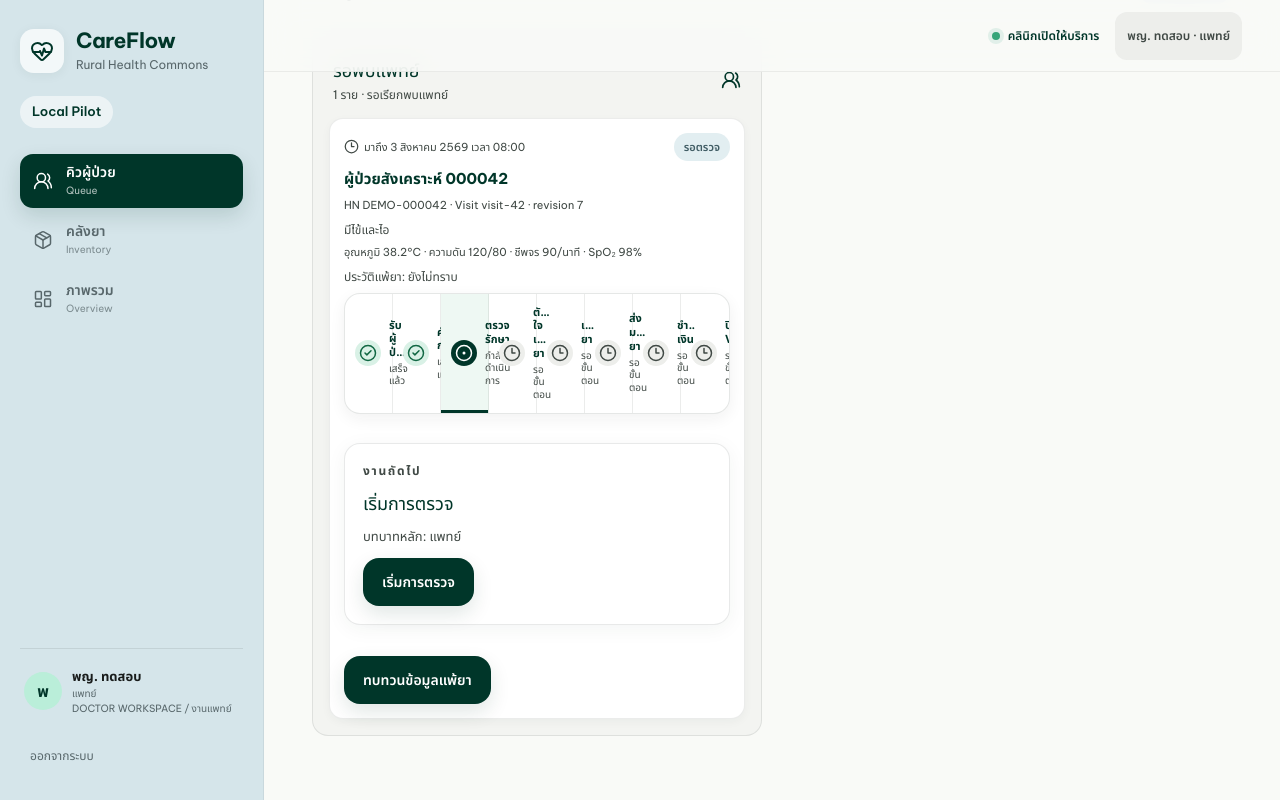
Test case: connected shared queue workflow › surfaces a committed start-command 503 instead of swallowing the error
(page scrolled)
Click the button "เริ่มการตรวจ": (418, 582) [363,558,474,606]
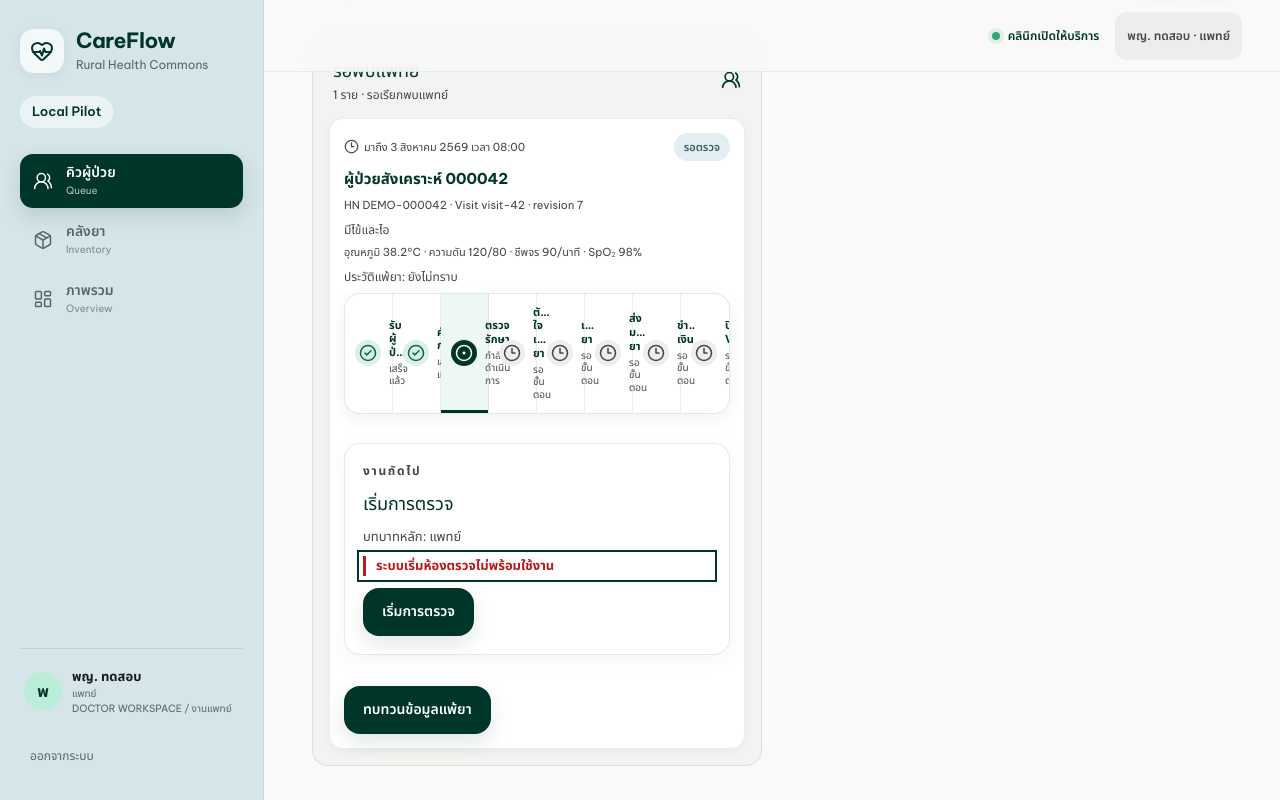
Expected: the button "เริ่มการตรวจ" is enabled, [363,588,474,636]
Expected: the text "ระบบเริ่มห้องตรวจไม่พร้อมใช้งาน" is shown, [363,556,711,576]
